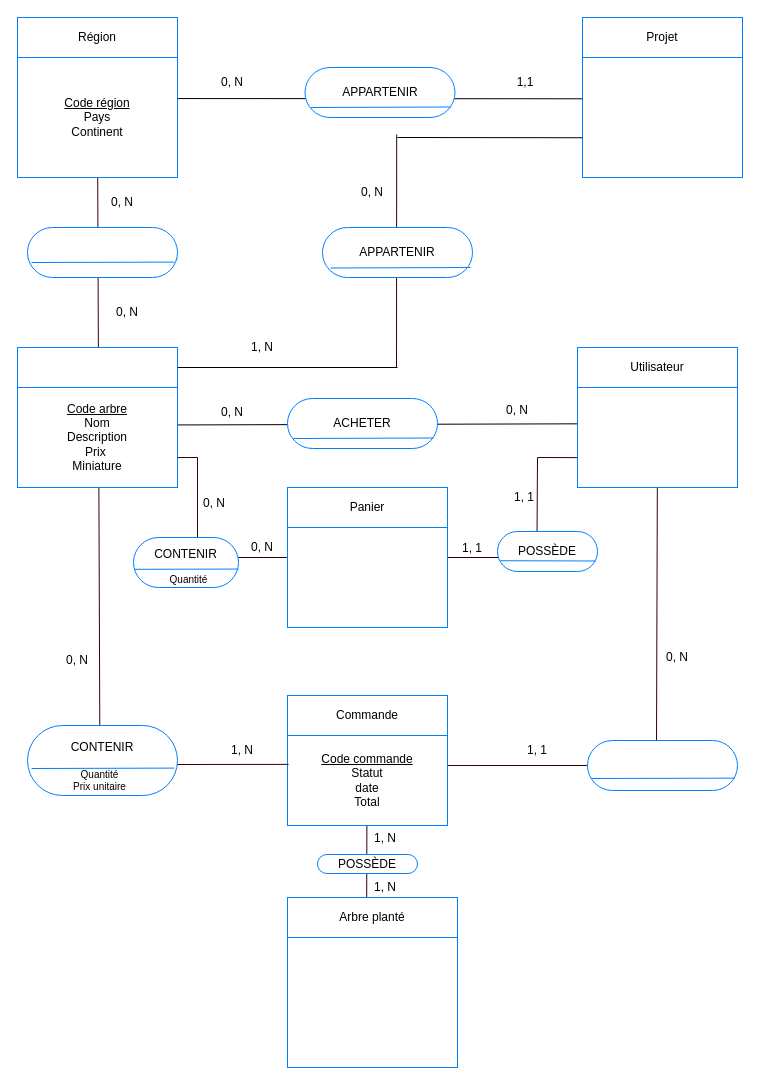
Image size: 760x1085. Some labels were removed from this diagram. The box of each missing label's shape, as (x1, y1, x2, y2) in pixels:
Arbre: (16, 346, 178, 388)
Code arbre planté date Nom Type Miniature Continent Pays: (286, 936, 458, 1068)
Code panier Date de création ? Statut ?: (286, 526, 448, 628)
Code projet Nom Descripiton Miniature: (582, 56, 742, 178)
Code utilisateur Nom Prénom e-mail téléphone Rôle: (576, 386, 738, 488)
PASSER: (586, 740, 738, 790)
SE SITUER: (26, 226, 178, 278)
